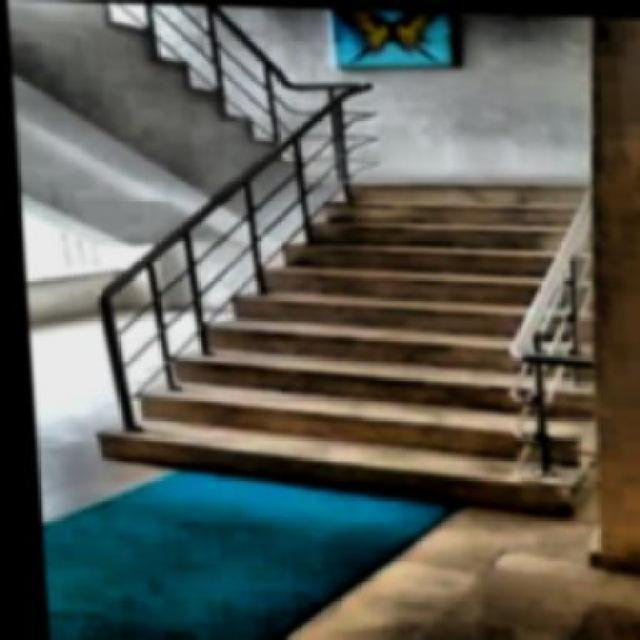stair: (85, 160, 618, 506)
